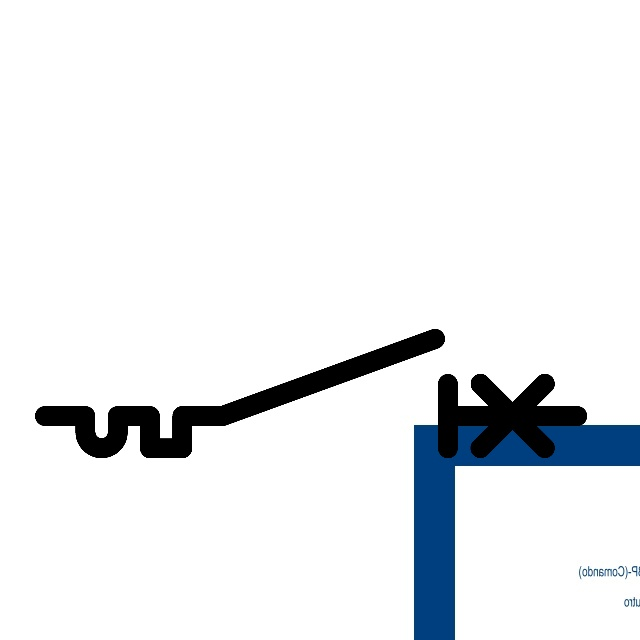interruptor_termomagnetico: (31, 325, 591, 462)
